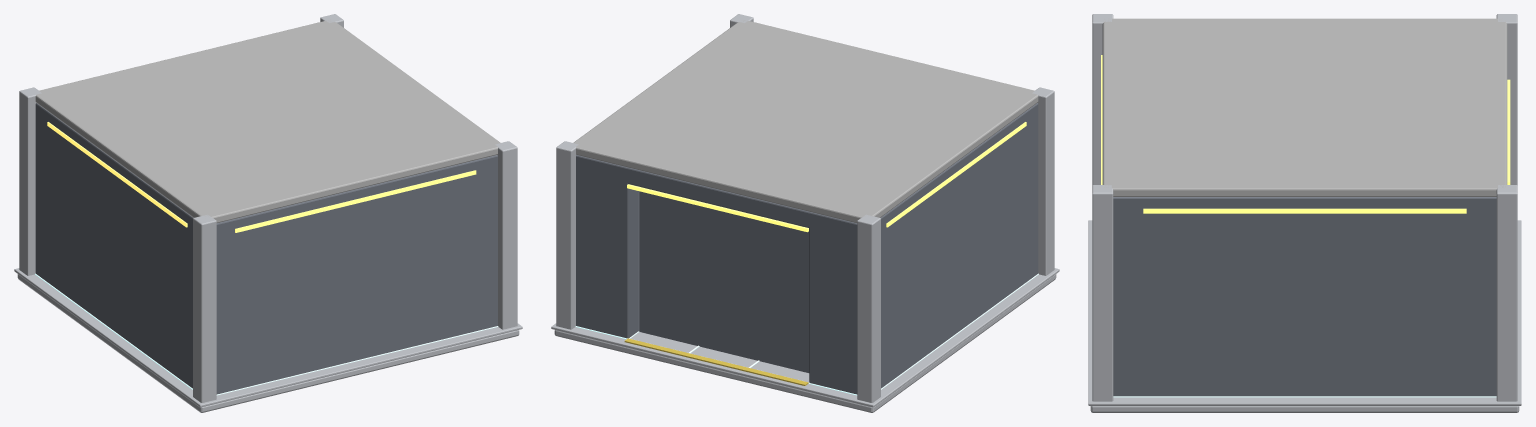
The model's file is hangar_5x5.glb.
3 views of the same model, side by side, from view 1: azimuth 30°, elevation 25°; view 2: azimuth 150°, elevation 25°; view 3: azimuth 270°, elevation 25° (orthographic). The views are drawn at different scales.
Visible parts, largest first — view 1: ext_wall, int_ceiling, int_columns, int_slab_edge, int_slab, ext_stripe3, ext_stripe2, int_grid; view 2: ext_wall, int_ceiling, int_columns, int_slab_edge, int_slab, ext_door_hazard, ext_door_glow, ext_stripe2, int_grid; view 3: ext_wall, int_ceiling, int_columns, int_slab_edge, int_slab, ext_stripe0, int_grid, ext_door_glow.
Boxes of the visible parts, x1,y1,x2,y2 form: ext_wall: [35, 103, 497, 394]; int_ceiling: [35, 19, 500, 222]; int_columns: [19, 14, 517, 402]; int_slab_edge: [14, 268, 522, 407]; int_slab: [17, 274, 519, 412]; ext_stripe3: [235, 170, 476, 232]; ext_stripe2: [47, 122, 187, 227]; int_grid: [35, 273, 498, 395]; ext_wall: [576, 103, 1038, 394]; int_ceiling: [573, 20, 1038, 222]; int_columns: [556, 14, 1054, 402]; int_slab_edge: [551, 268, 1059, 407]; int_slab: [554, 274, 1056, 412]; ext_door_hazard: [624, 338, 808, 385]; ext_door_glow: [627, 184, 808, 232]; ext_stripe2: [886, 122, 1026, 227]; int_grid: [575, 273, 1038, 395]; ext_wall: [1113, 197, 1496, 396]; int_ceiling: [1102, 18, 1507, 196]; int_columns: [1092, 14, 1517, 401]; int_slab_edge: [1088, 220, 1521, 405]; int_slab: [1090, 406, 1519, 412]; ext_stripe0: [1143, 208, 1466, 213]; int_grid: [1113, 396, 1496, 397]; ext_door_glow: [1507, 79, 1510, 184].
Bounding box in the file's own units: 5.36 × 3 × 5.36.
